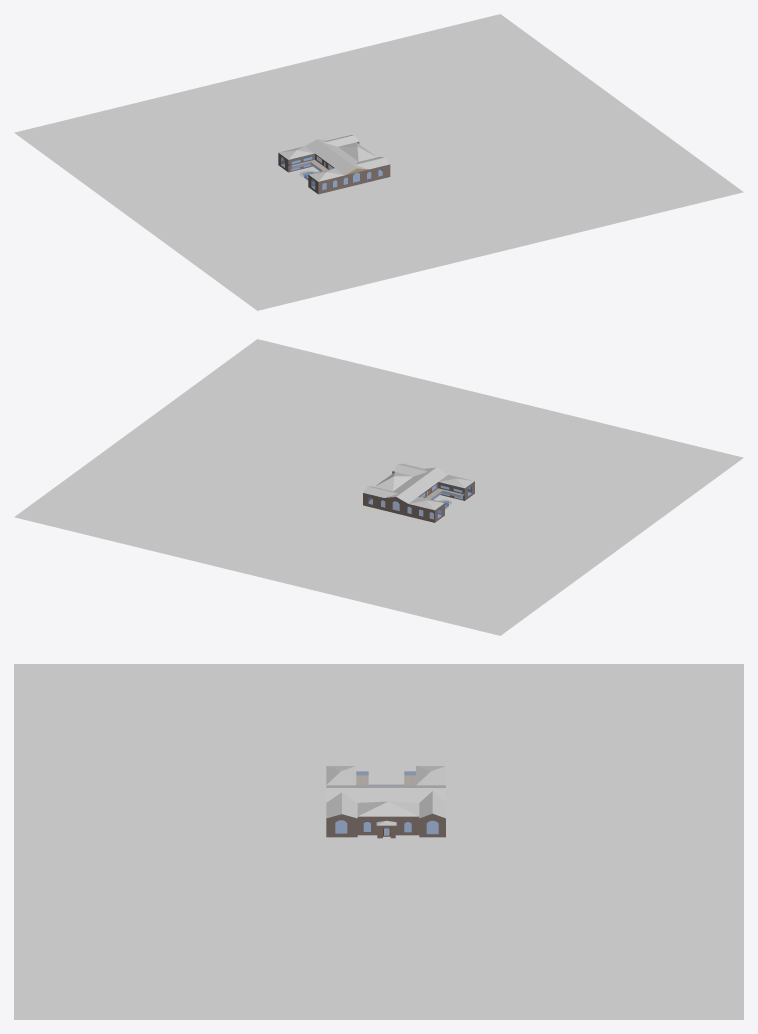
The model's file is house.fbx.
The picture shows the model from 3 angles, top to bottom: view 1: azimuth 30°, elevation 25°; view 2: azimuth 150°, elevation 25°; view 3: azimuth 270°, elevation 25°; orthographic projection. The views are drawn at different scales.
Parts seen in each view (by area): view 1: Model; view 2: Model; view 3: Model.
Part boxes in pixels (box(x1,y1,x2,y2)): Model: box(14, 14, 743, 310); Model: box(14, 339, 743, 635); Model: box(14, 664, 743, 1019).
Bounding box in the file's own units: 234 × 10.09 × 203.
